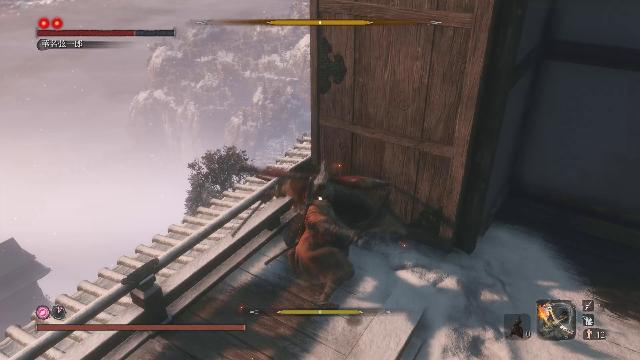sk: (289, 182, 360, 309)
